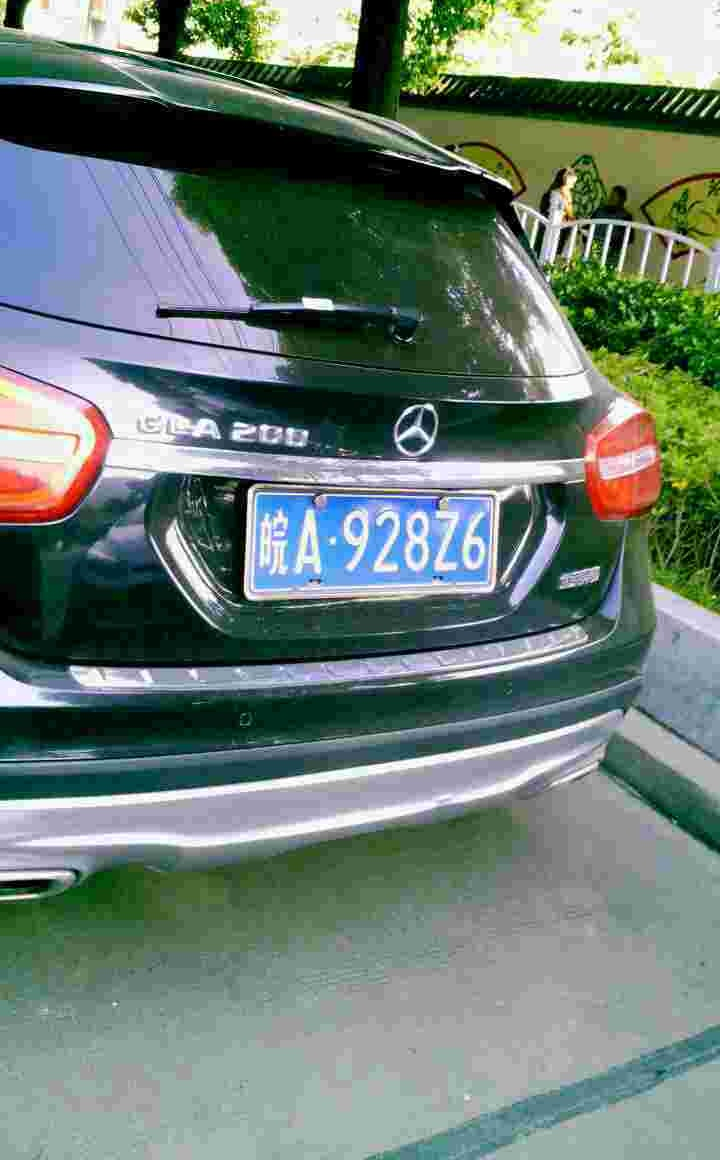license_plate: (251, 488, 508, 593)
